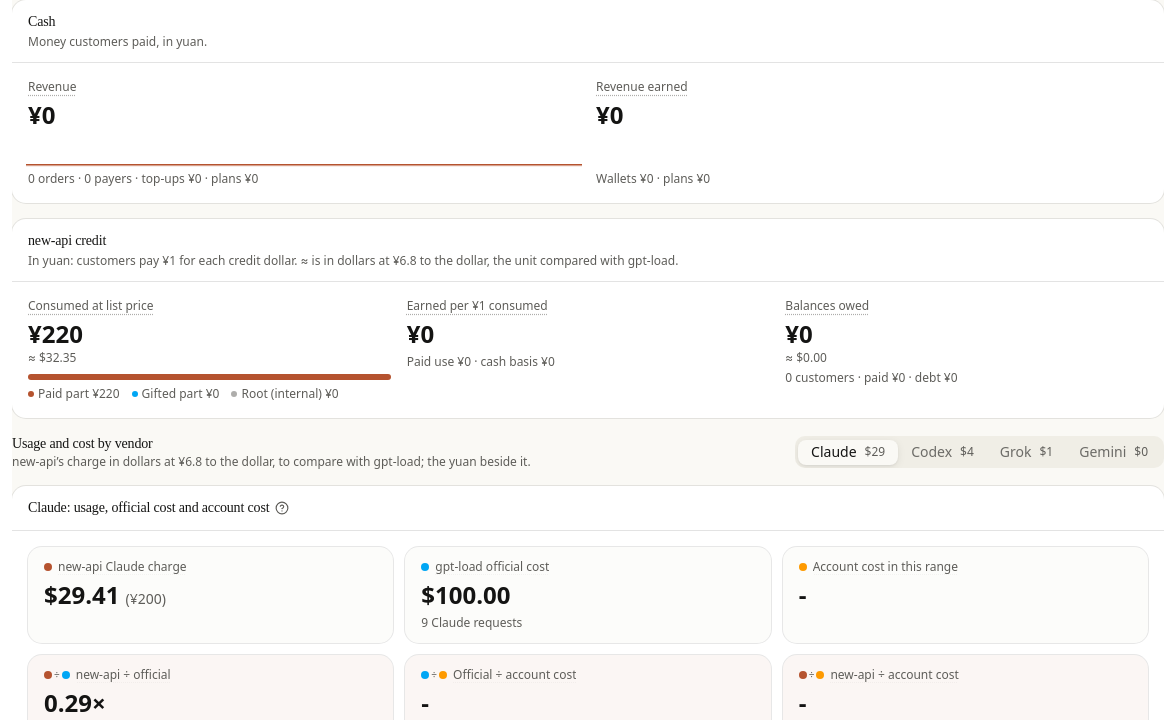
Test: new-api’s charge in dollars › converts each vendor’s charge the same way
Click the tab "Codex $4": [942, 452] box [898,440,987,464]
(page scrolled)
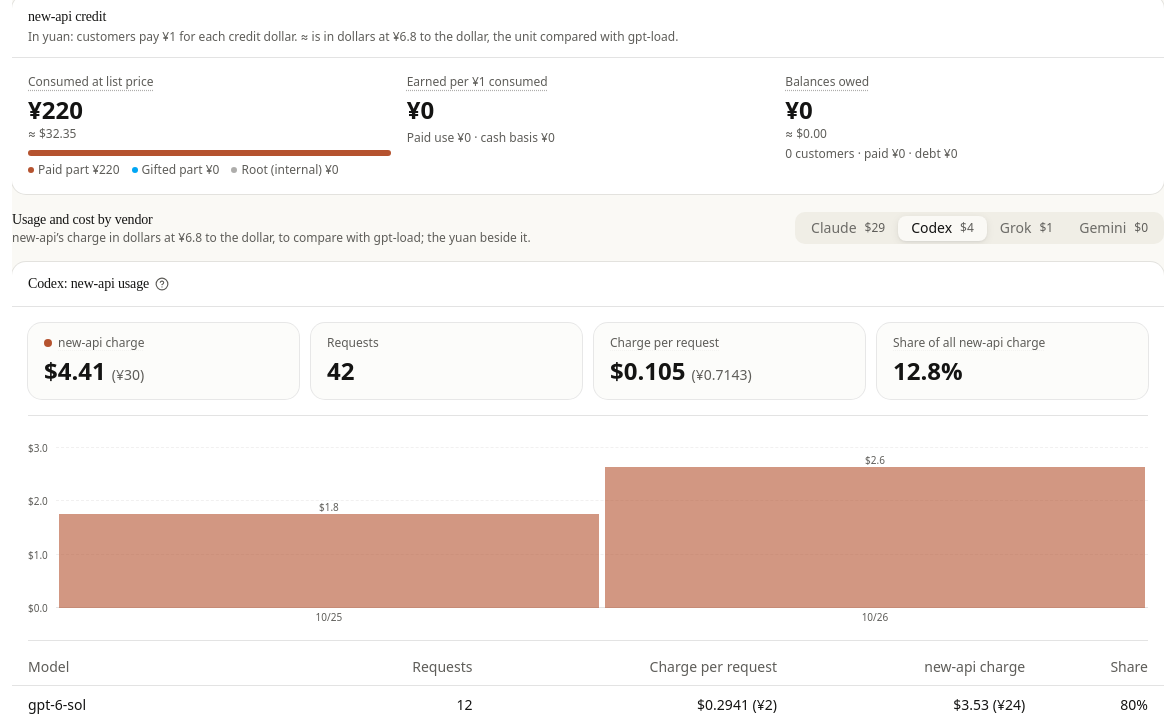
Expected: the text "new-api charge" reads "new-api charge $4.41 (¥30)", [28,323,299,399]
Expected: the text "Charge per request" reads "Charge per request $0.105 (¥0.7143)", [594,323,865,399]
